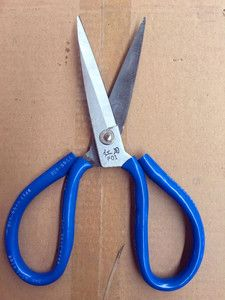scissor: (4, 14, 205, 292)
